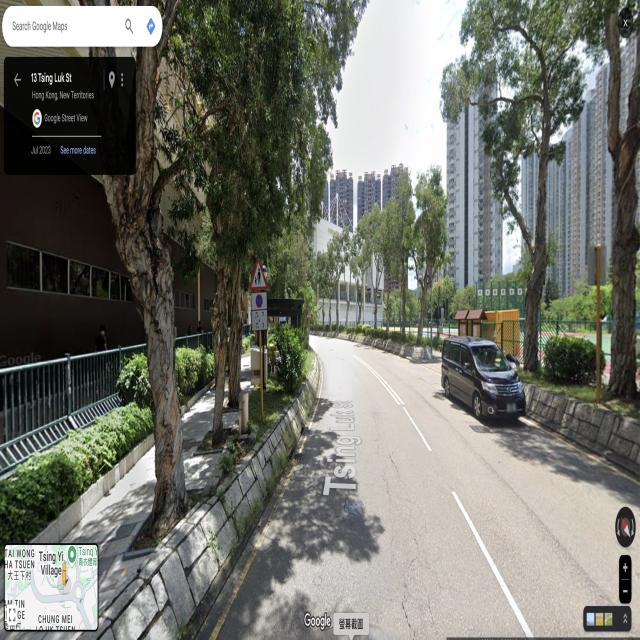Order-Sign: (252, 292, 267, 330)
Warning-Sign: (250, 260, 267, 289), (307, 309, 311, 318)
